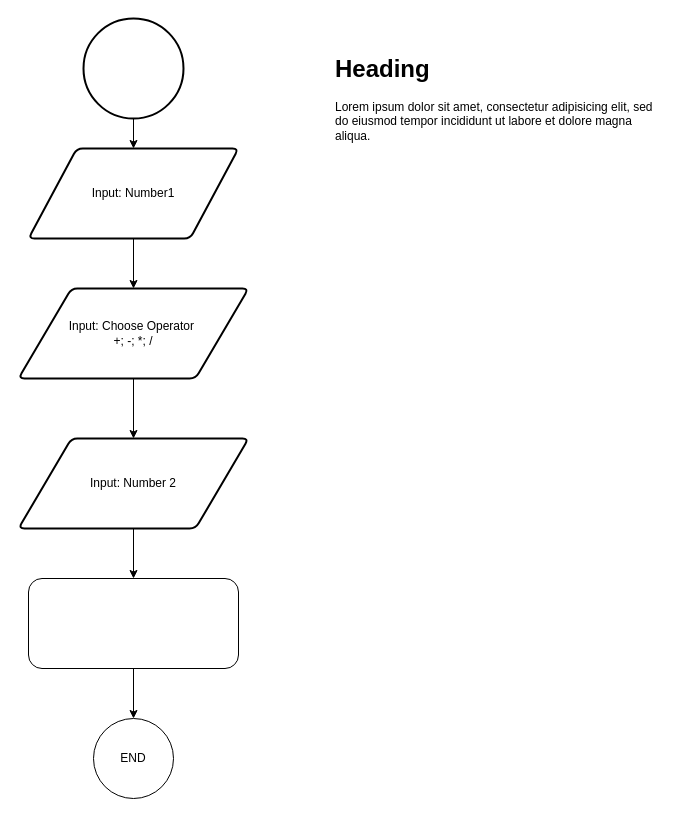
The diagram is 680 pixels wide and 816 high, and some of its shapes have lost their labels. Here are the shapes that lost their labels. From the top down, the centre of each, then its label:
pixel 133 68: START
pixel 133 623: Result Input
